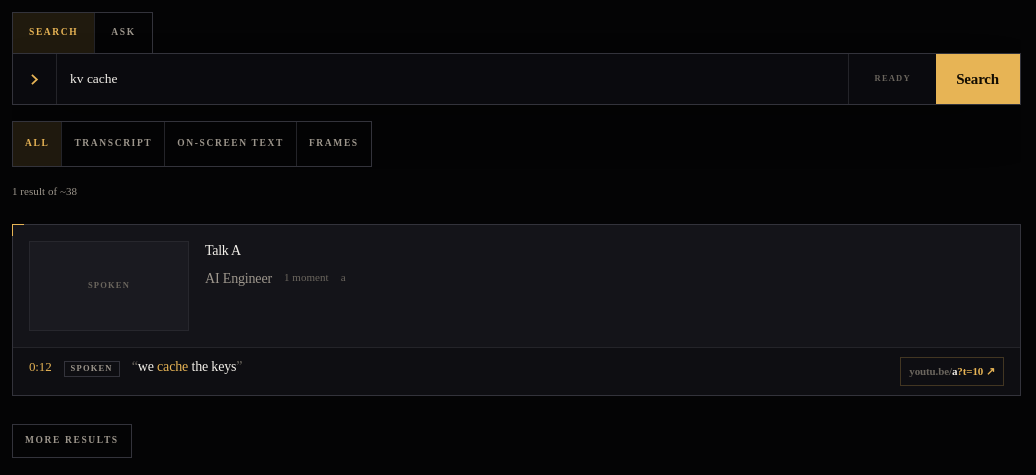
the console in search mode › More results › appends page two into the card its video already has
Expected: the message reads "1 result of ~38", [12,185,77,197]
Click the button "More results" at (72,441), box [12,424,132,458]
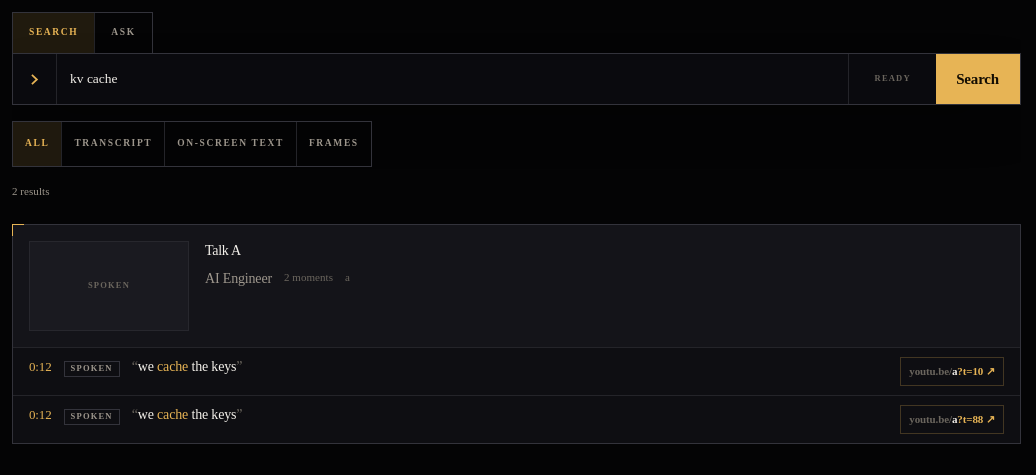
Expected: the text "2 moments" is shown, [284,269,333,288]
